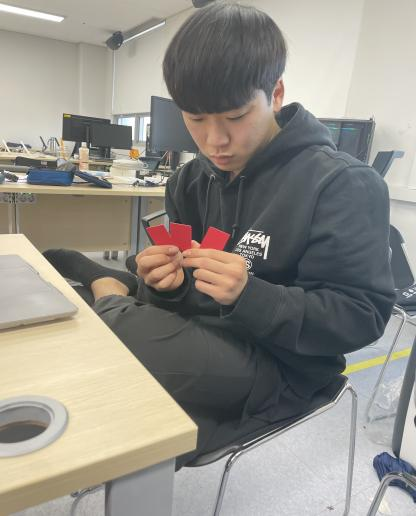ThreeHwatoo: (136, 215, 235, 266)
